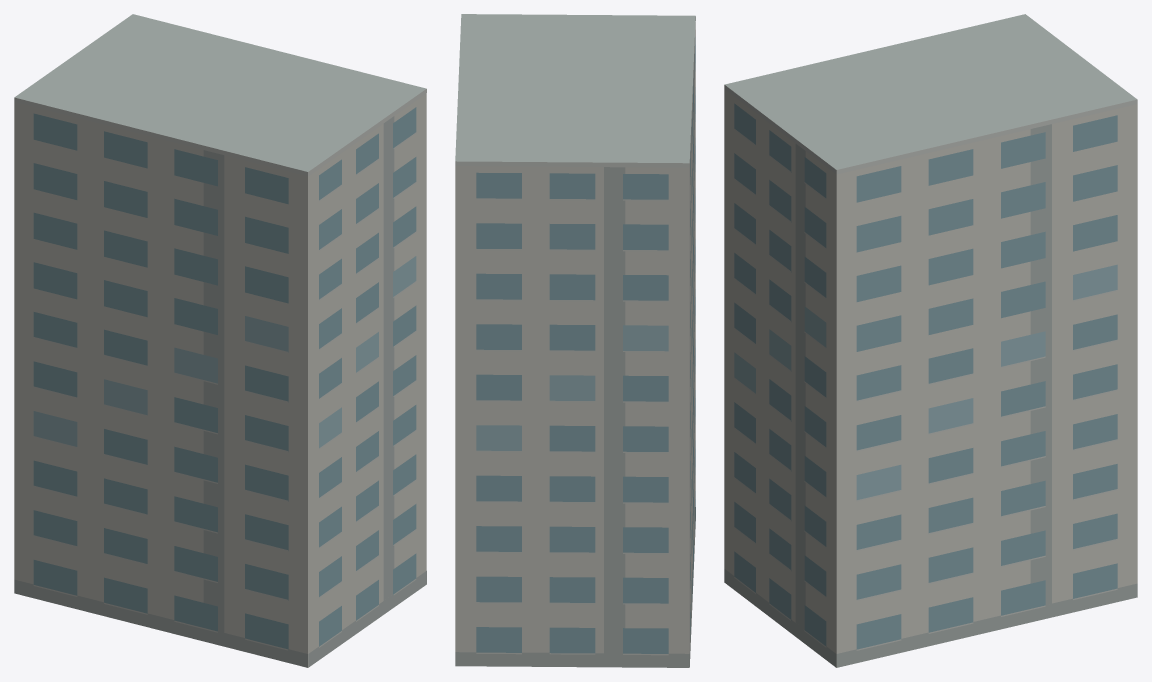
Rendered from residential-0ba6d025-2b37-4b69-bac1-42ba9768fe73.glb.
The picture shows the model from 3 angles, left to right: view 1: azimuth 30°, elevation 25°; view 2: azimuth 150°, elevation 25°; view 3: azimuth 270°, elevation 25°; orthographic projection.
Visible parts, largest first — view 1: residential-0ba6d025-2b37-4b69-bac1-42ba9768fe73.tmp; view 2: residential-0ba6d025-2b37-4b69-bac1-42ba9768fe73.tmp; view 3: residential-0ba6d025-2b37-4b69-bac1-42ba9768fe73.tmp.
Part boxes in pixels (x1,y1,x2,y2): residential-0ba6d025-2b37-4b69-bac1-42ba9768fe73.tmp: (14, 14, 426, 667); residential-0ba6d025-2b37-4b69-bac1-42ba9768fe73.tmp: (455, 14, 695, 667); residential-0ba6d025-2b37-4b69-bac1-42ba9768fe73.tmp: (724, 14, 1137, 667).
Bounding box in the file's own units: 18.15 × 27 × 20.32.
